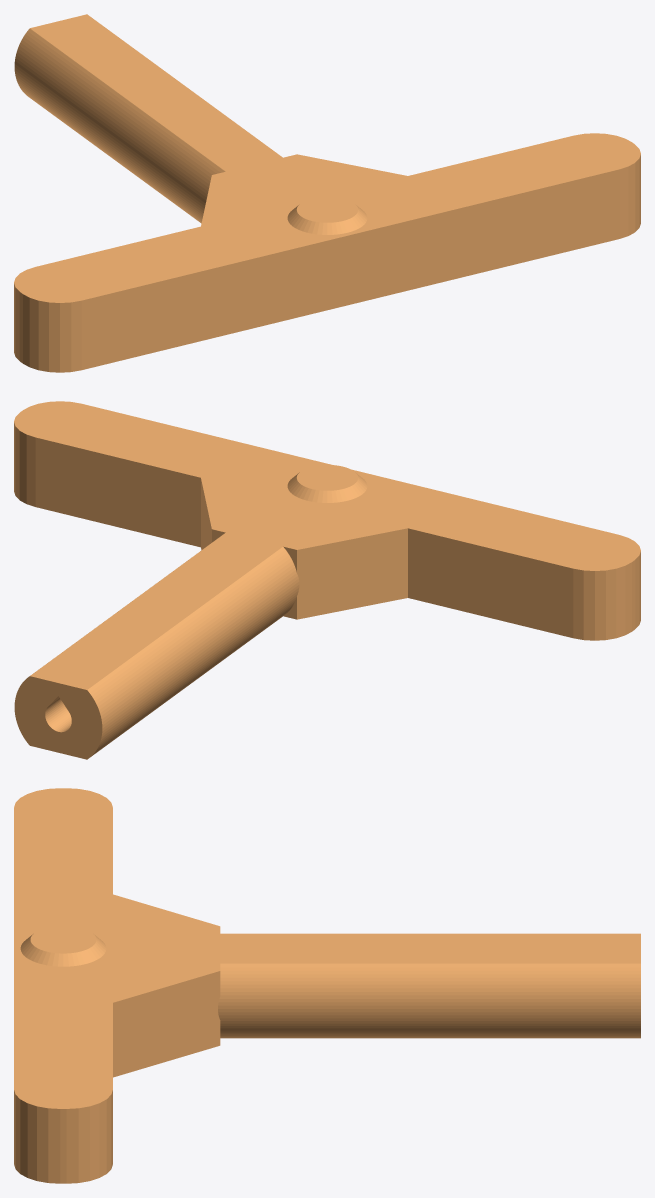
Rendered from kit-yoke-hbar.glb.
3 views of the same model, one above another, from view 1: azimuth 30°, elevation 25°; view 2: azimuth 150°, elevation 25°; view 3: azimuth 270°, elevation 25° (orthographic). The views are drawn at different scales.
Visible parts, largest first — view 1: kit-yoke-hbar; view 2: kit-yoke-hbar; view 3: kit-yoke-hbar.
Part boxes in pixels (box(x1,y1,x2,y2)): kit-yoke-hbar: box(14, 14, 640, 372); kit-yoke-hbar: box(14, 401, 640, 759); kit-yoke-hbar: box(14, 788, 640, 1183).
Size of the model in its own units: 0.046 by 0.0056 by 0.038.
